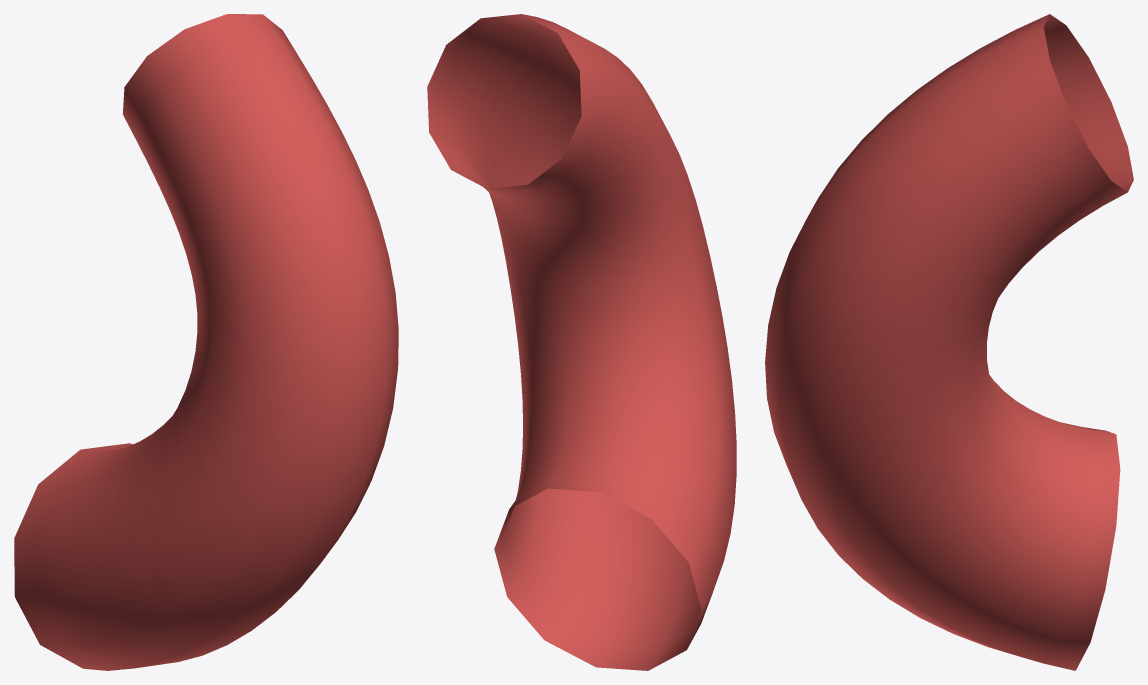
3 renders of one model, left to right at view 1: azimuth 30°, elevation 25°; view 2: azimuth 150°, elevation 25°; view 3: azimuth 270°, elevation 25°, orthographic. The views are drawn at different scales.
Visible parts, largest first — view 1: 主动脉弓; view 2: 主动脉弓; view 3: 主动脉弓.
Boxes of the visible parts, <box> form: 主动脉弓: <box>14,14,398,670</box>; 主动脉弓: <box>427,14,736,670</box>; 主动脉弓: <box>765,14,1133,670</box>.
Size of the model in its own units: 0.0585 by 0.1255 by 0.0612.
